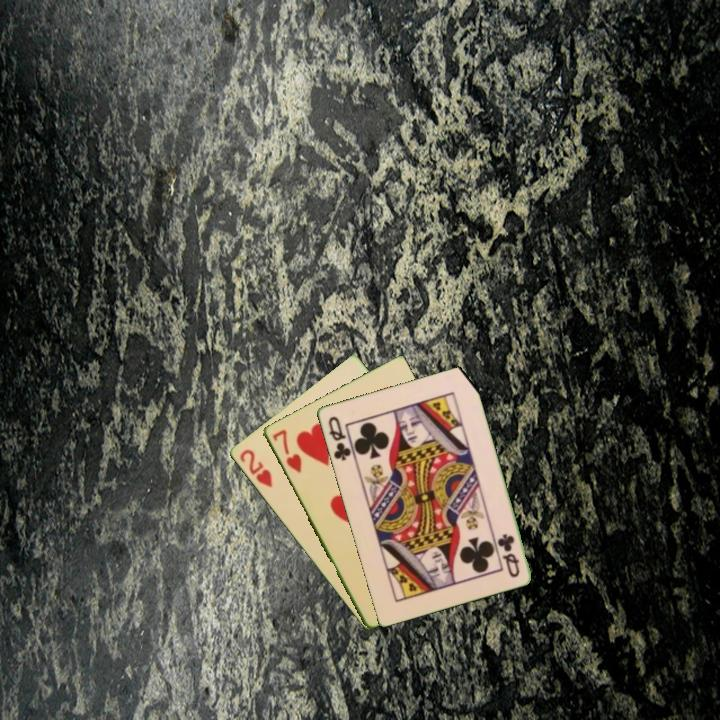2h: (236, 445, 275, 491)
7h: (269, 426, 304, 476)
Qc: (324, 412, 357, 463), (494, 530, 522, 580)
